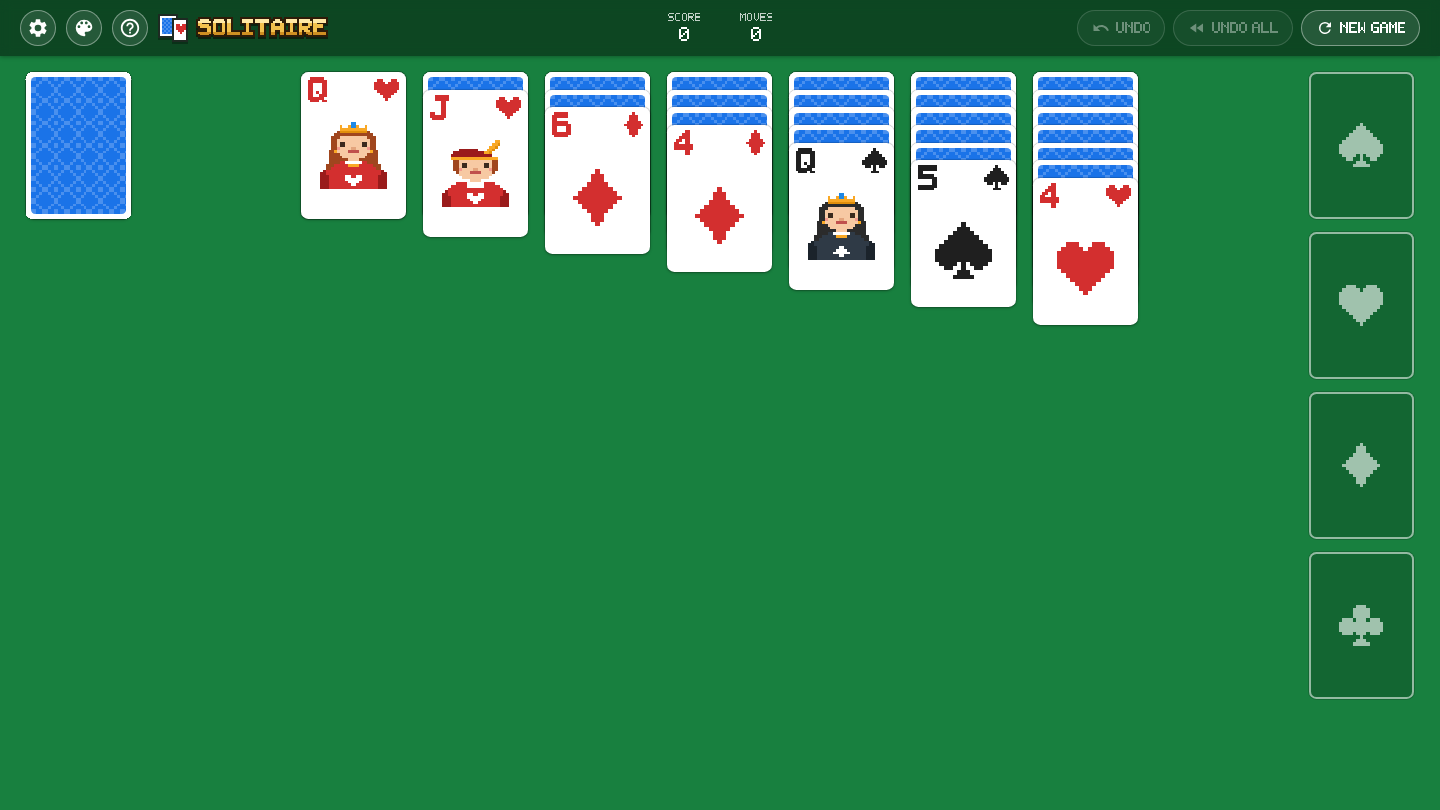
Test: animated backgrounds setting › is on by default and animates a pixel background
Click the button named "Settings": (38, 28) [20, 10, 56, 46]
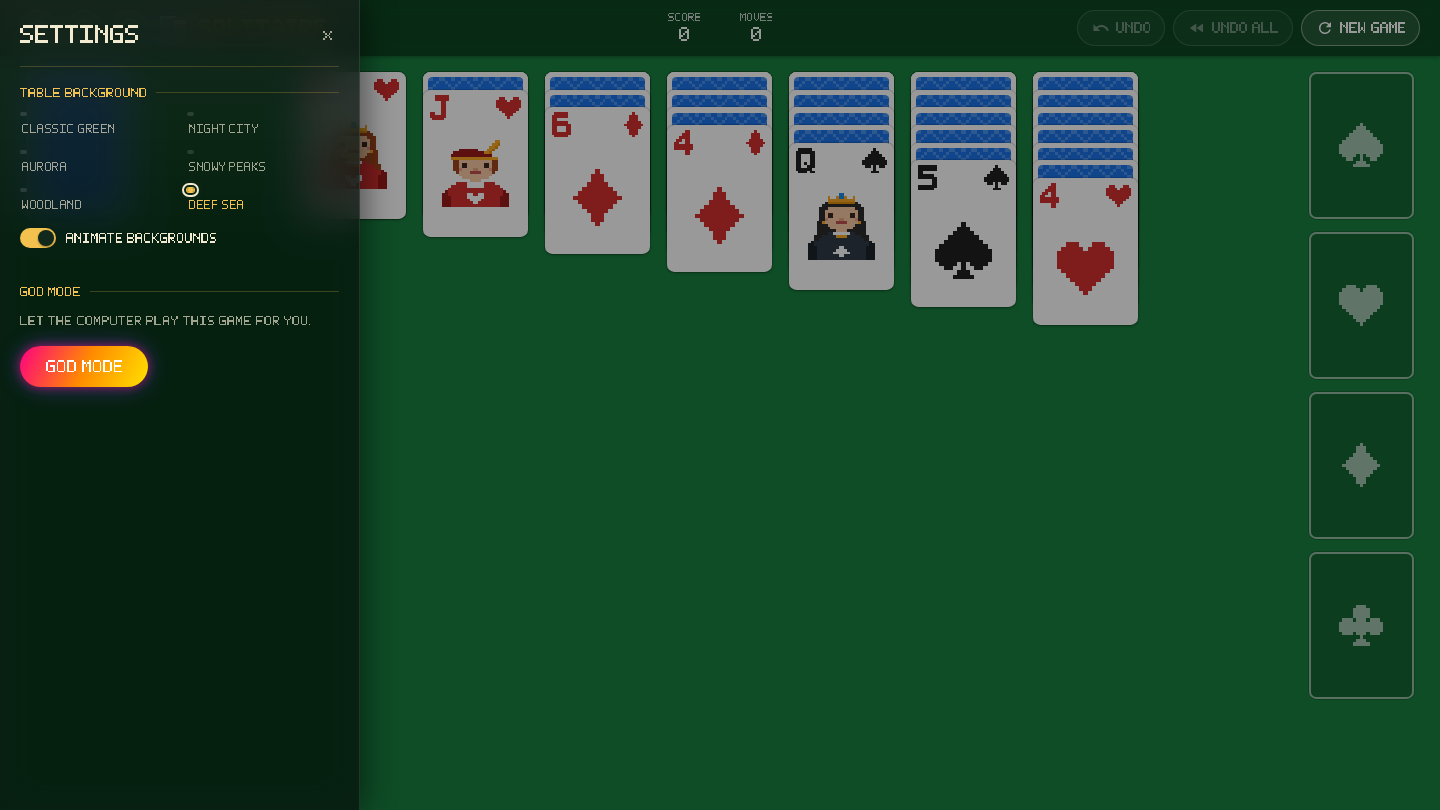
Expected: the switch named "Animate backgrounds" is checked, [20, 228, 217, 248]
